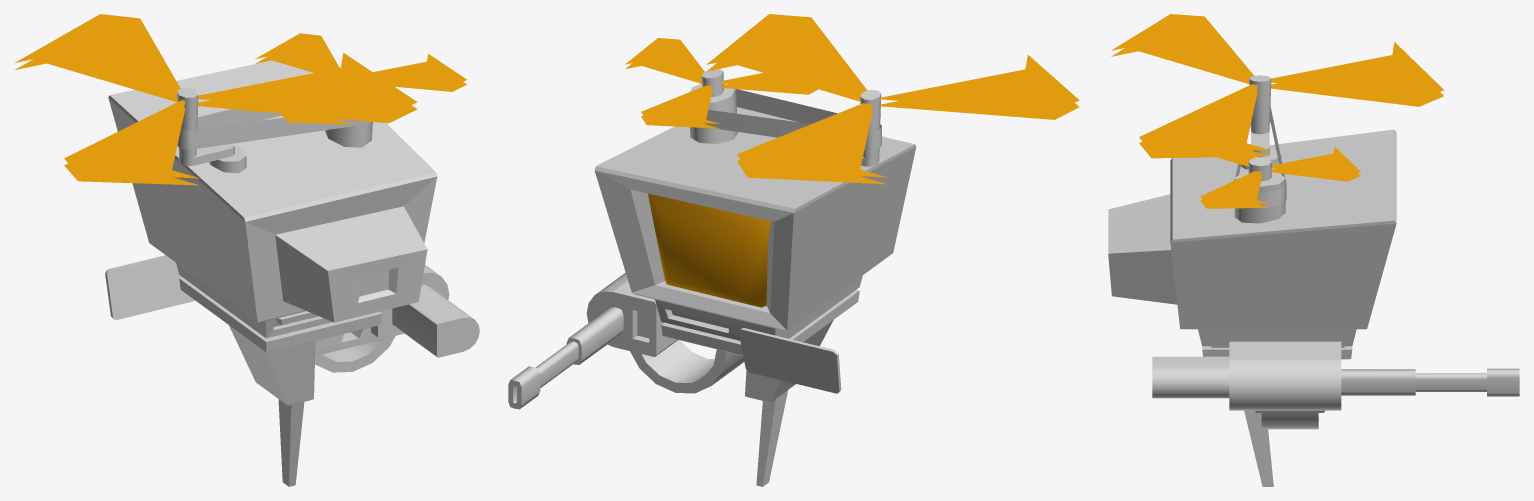
Rendered from FEU-107.obj.
3 renders of one model, left to right at view 1: azimuth 30°, elevation 25°; view 2: azimuth 150°, elevation 25°; view 3: azimuth 270°, elevation 25°, orthographic. The views are drawn at different scales.
Parts seen in each view (by area): view 1: Body, BigProp, SmallProp; view 2: Body, BigProp, ScreenPlastic, SmallProp; view 3: Body, BigProp, SmallProp.
Boxes of the visible parts, bbox=[...] form: Body: bbox=[105, 60, 479, 486]; BigProp: bbox=[15, 14, 417, 185]; SmallProp: bbox=[255, 33, 466, 124]; Body: bbox=[508, 69, 916, 486]; BigProp: bbox=[706, 14, 1079, 184]; ScreenPlastic: bbox=[648, 193, 770, 307]; SmallProp: bbox=[625, 38, 818, 128]; Body: bbox=[1108, 75, 1519, 486]; BigProp: bbox=[1111, 14, 1443, 158]; SmallProp: bbox=[1200, 147, 1360, 208].
Size of the model in its own units: 7.07 by 6.93 by 7.13.
